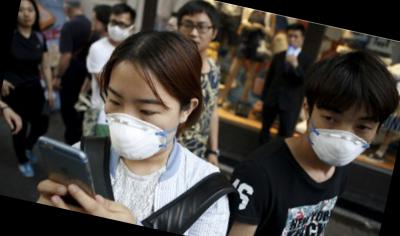with_mask: (94, 84, 185, 170), (303, 101, 380, 173), (104, 16, 134, 45)
without_mask: (176, 14, 216, 54), (16, 4, 38, 30), (284, 31, 307, 53)
